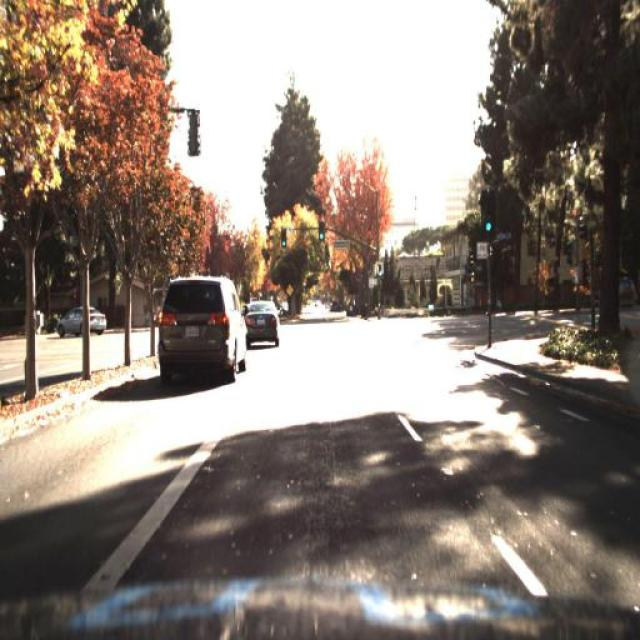car: (154, 267, 251, 384), (53, 301, 109, 335), (55, 306, 109, 340), (244, 297, 280, 347), (243, 298, 282, 342)
trafficLight-Green: (479, 196, 498, 244), (374, 258, 386, 284)
trafficLight-GreenLeft: (480, 190, 498, 240), (316, 218, 326, 250), (374, 257, 386, 282), (278, 229, 288, 252), (317, 223, 323, 243)
trafficLight-Red: (281, 232, 287, 252)
